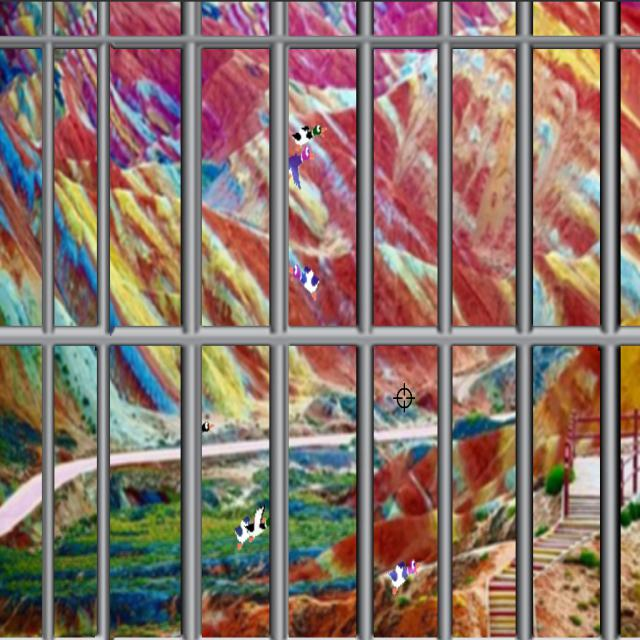duck: (287, 255, 328, 308), (384, 551, 424, 598), (283, 141, 317, 195), (289, 116, 333, 150), (228, 510, 260, 555), (245, 498, 275, 543), (200, 416, 217, 448)
